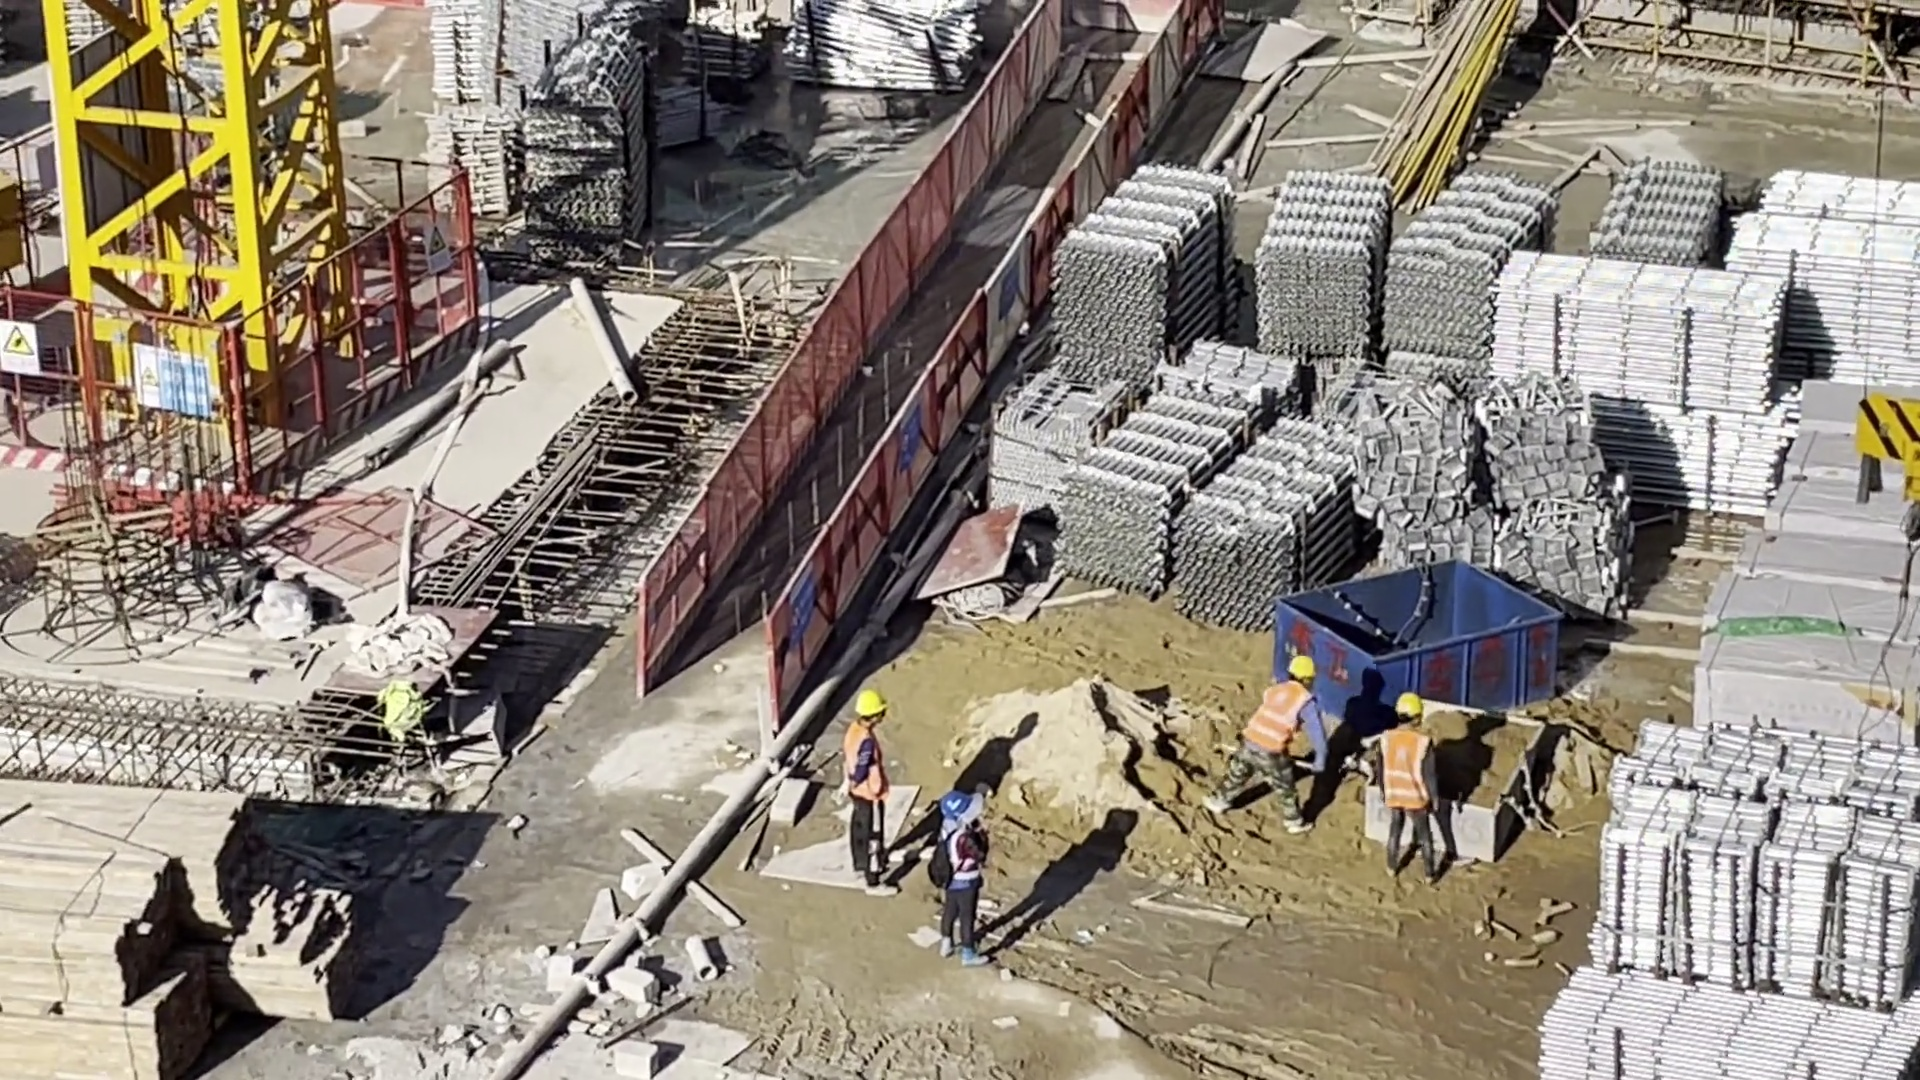fence: (607, 1, 1205, 727)
helmet: (1393, 684, 1441, 738), (851, 686, 890, 732), (935, 785, 980, 824), (1280, 641, 1314, 678)
hook: (1837, 381, 1919, 550)
hopper: (1277, 541, 1558, 696), (1374, 689, 1541, 835)
person: (1358, 674, 1458, 885), (1234, 644, 1326, 831), (820, 688, 900, 891), (936, 783, 1008, 966)
scaffold: (1105, 119, 1845, 558), (1607, 690, 1917, 1080)
vest: (1244, 670, 1304, 758), (1380, 723, 1439, 812), (846, 718, 888, 799)
wood: (1, 761, 321, 1025)
